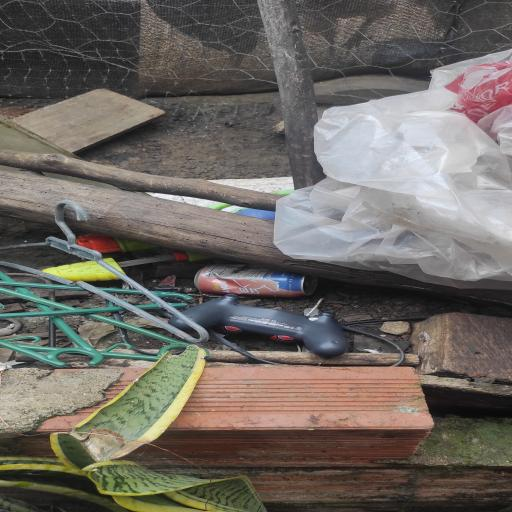ControlPlay4: (183, 294, 348, 358)
